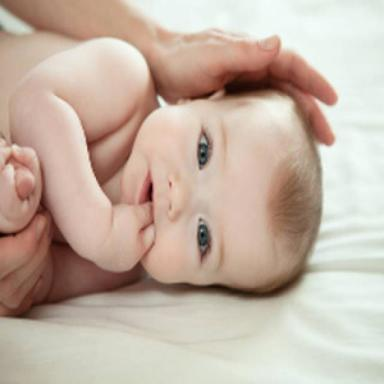normal skin: (0, 0, 337, 144), (103, 91, 299, 291), (0, 32, 157, 271), (0, 209, 141, 316), (0, 136, 42, 233)
